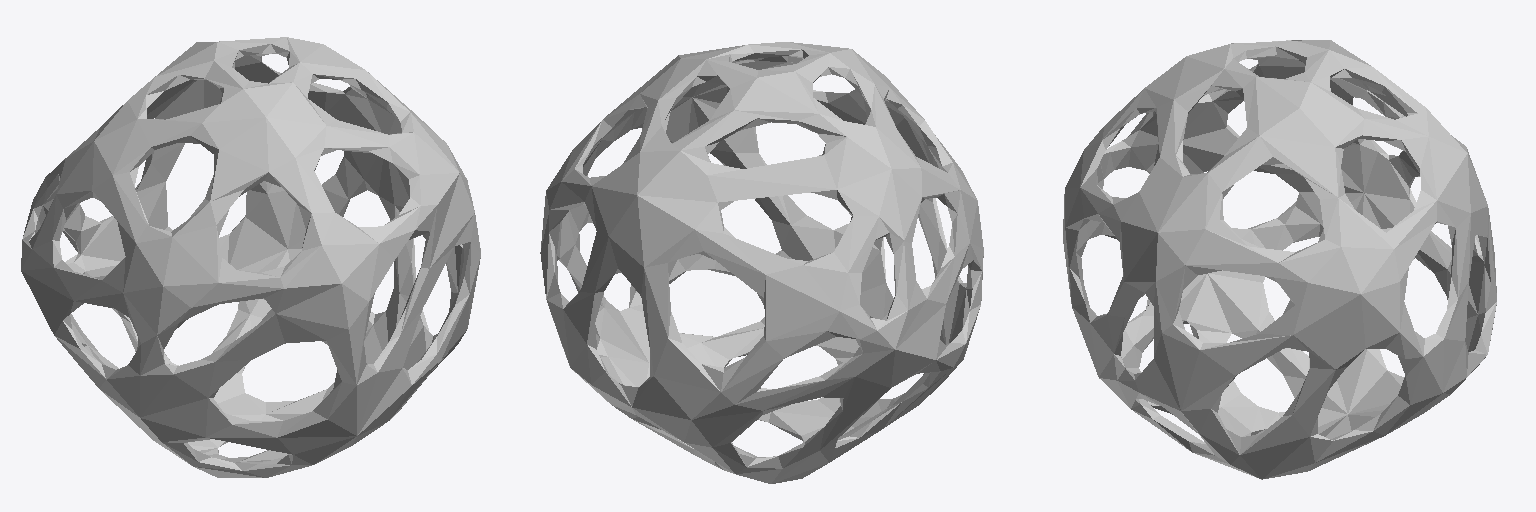
Rendered from BlaloOrbFrame.obj.
The picture shows the model from 3 angles: view 1: azimuth 30°, elevation 25°; view 2: azimuth 150°, elevation 25°; view 3: azimuth 270°, elevation 25°; orthographic projection.
Parts seen in each view (by area): view 1: coso_mollo_intorno.003_Sphere.010; view 2: coso_mollo_intorno.003_Sphere.010; view 3: coso_mollo_intorno.003_Sphere.010.
Part boxes in pixels (x1,y1,x2,y2): coso_mollo_intorno.003_Sphere.010: (21, 37, 480, 477); coso_mollo_intorno.003_Sphere.010: (540, 42, 983, 483); coso_mollo_intorno.003_Sphere.010: (1063, 40, 1496, 479).
Bounding box in the file's own units: 4.38 × 4.52 × 4.46.